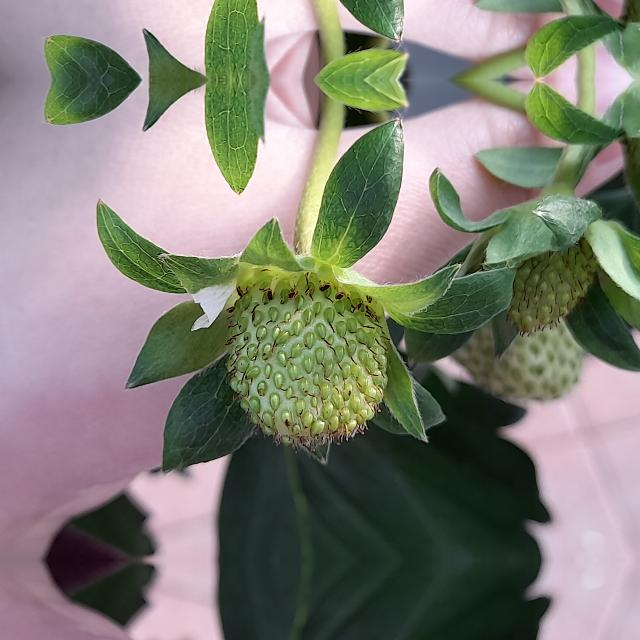Health_25: (224, 268, 390, 452)
